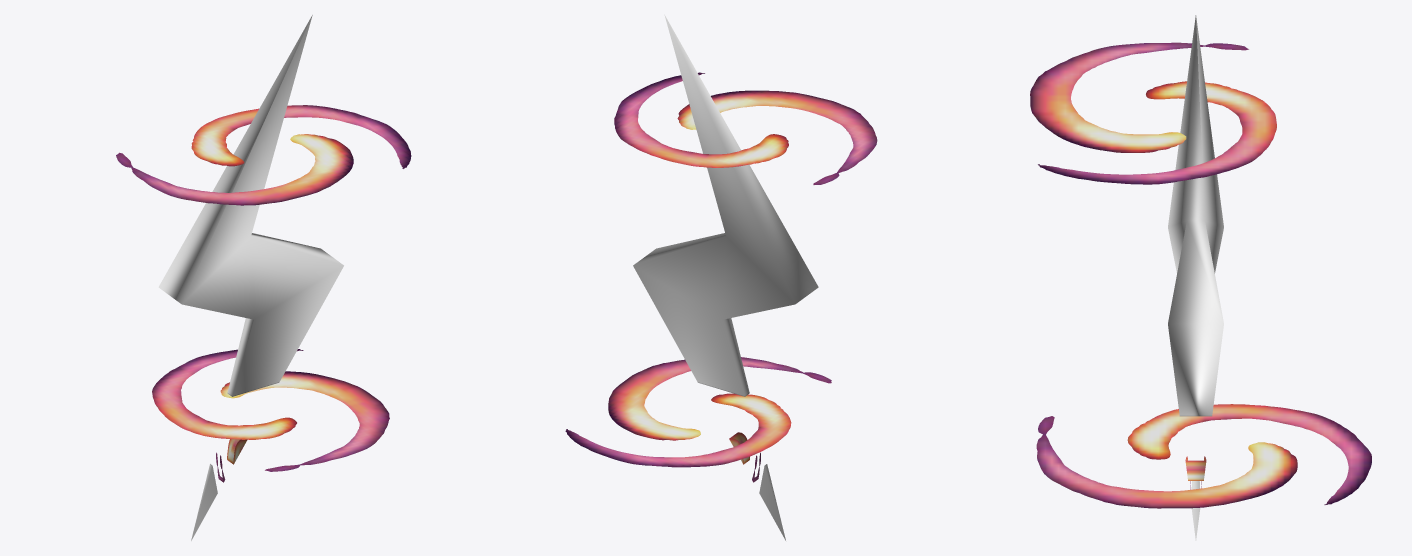
The model's file is datan_common_body51_pomsx_7793cd4c.obj.
The picture shows the model from 3 angles, left to right: view 1: azimuth 30°, elevation 25°; view 2: azimuth 150°, elevation 25°; view 3: azimuth 270°, elevation 25°; orthographic projection. The views are drawn at different scales.
Parts seen in each view (by area): view 1: datan_common_body51_pomsx_7793cd4c_mesh00, datan_common_body51_pomsx_7793cd4c_mesh02, datan_common_body51_pomsx_7793cd4c_mesh01; view 2: datan_common_body51_pomsx_7793cd4c_mesh00, datan_common_body51_pomsx_7793cd4c_mesh01, datan_common_body51_pomsx_7793cd4c_mesh02; view 3: datan_common_body51_pomsx_7793cd4c_mesh00, datan_common_body51_pomsx_7793cd4c_mesh01, datan_common_body51_pomsx_7793cd4c_mesh02.
Part boxes in pixels (<box>): datan_common_body51_pomsx_7793cd4c_mesh00: <box>158,15,343,540</box>; datan_common_body51_pomsx_7793cd4c_mesh02: <box>116,105,411,205</box>; datan_common_body51_pomsx_7793cd4c_mesh01: <box>152,349,389,471</box>; datan_common_body51_pomsx_7793cd4c_mesh00: <box>633,14,818,540</box>; datan_common_body51_pomsx_7793cd4c_mesh01: <box>565,357,831,467</box>; datan_common_body51_pomsx_7793cd4c_mesh02: <box>614,72,877,184</box>; datan_common_body51_pomsx_7793cd4c_mesh00: <box>1168,15,1223,540</box>; datan_common_body51_pomsx_7793cd4c_mesh01: <box>1036,404,1371,508</box>; datan_common_body51_pomsx_7793cd4c_mesh02: <box>1030,42,1276,184</box>.
Size of the model in its own units: 1.05 by 1.71 by 1.05.
Materials: 1 (1 with a texture image).
